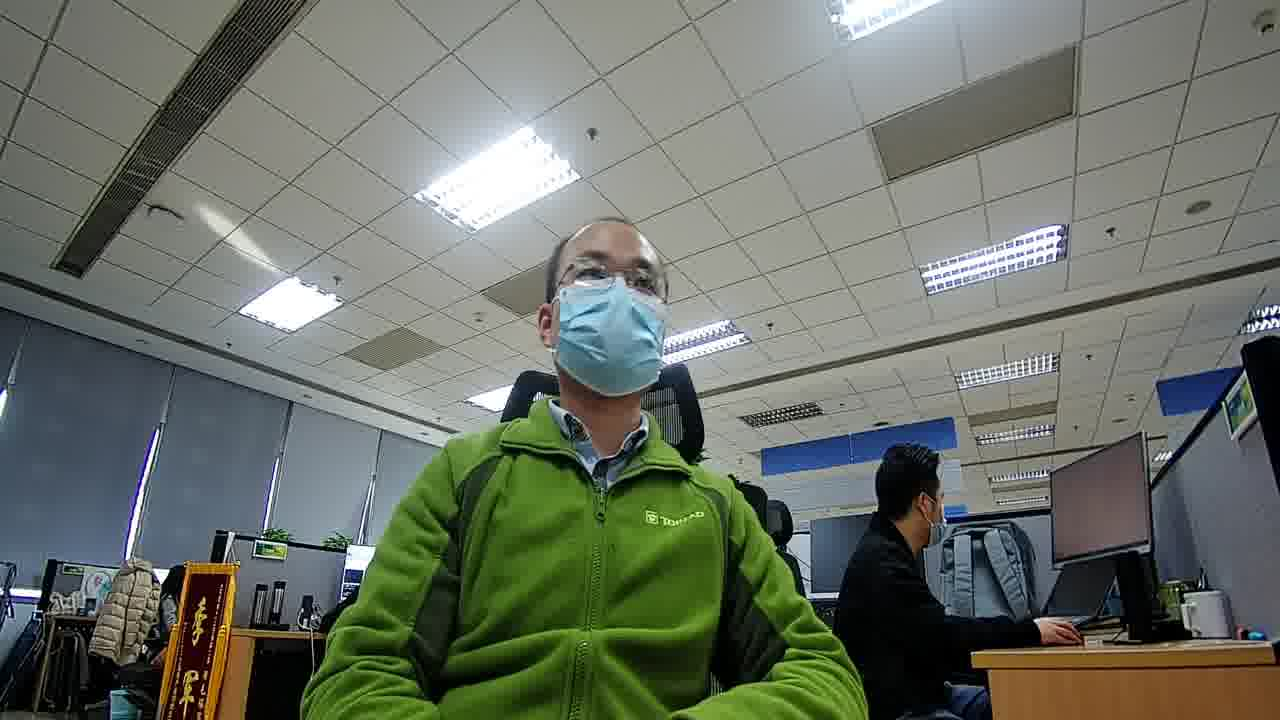face: (551, 233, 669, 393)
mask: (556, 274, 665, 396)
person: (417, 212, 748, 506), (842, 432, 952, 592), (155, 556, 188, 608)
